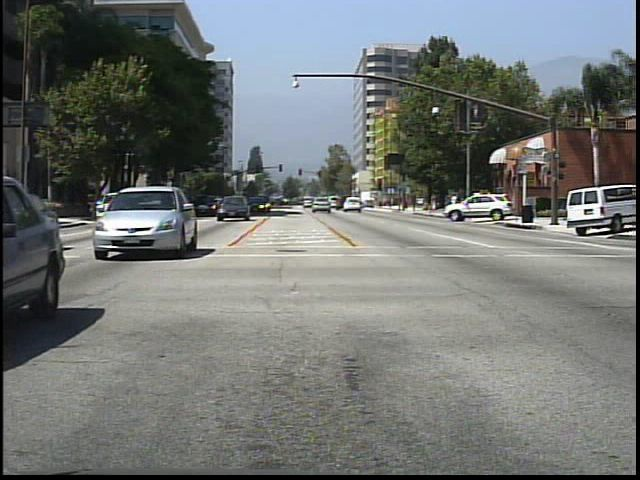person: (449, 187, 464, 219), (429, 190, 440, 214)
